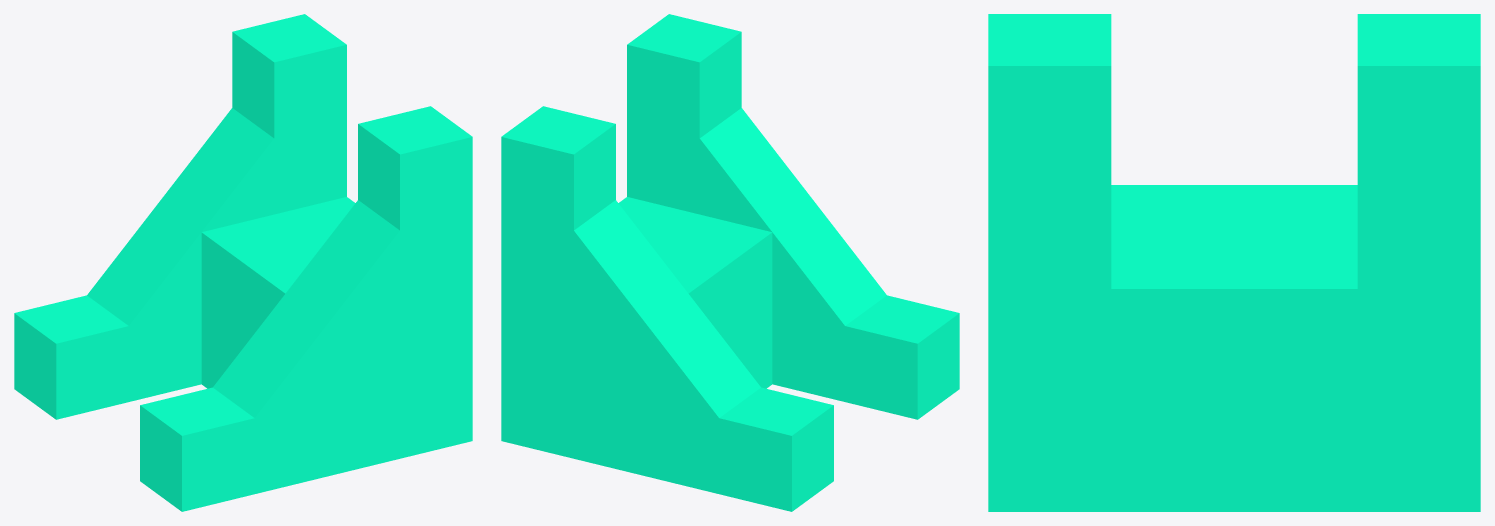
The model's file is vista_7.glb.
The picture shows the model from 3 angles, left to right: view 1: azimuth 30°, elevation 25°; view 2: azimuth 150°, elevation 25°; view 3: azimuth 270°, elevation 25°; orthographic projection. The views are drawn at different scales.
Parts seen in each view (by area): view 1: Plane.001_1; view 2: Plane.001_1; view 3: Plane.001_1.
Boxes of the visible parts, x1,y1,x2,y2 form: Plane.001_1: [14, 14, 472, 511]; Plane.001_1: [501, 14, 959, 511]; Plane.001_1: [988, 14, 1480, 511].
Size of the model in its own units: 6 by 6 by 6.
